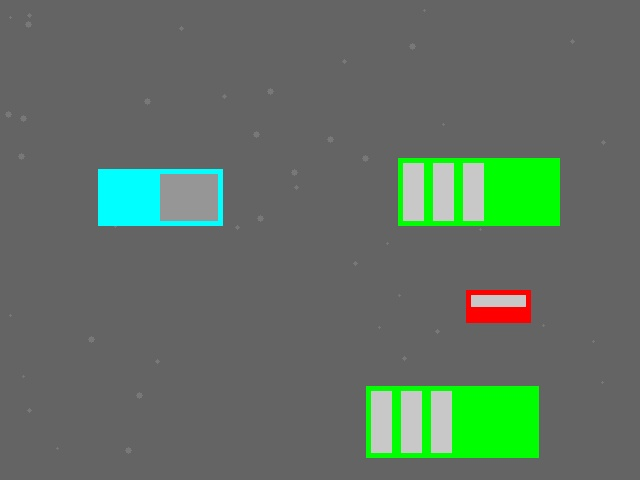bus: (366, 386, 538, 457), (398, 158, 559, 225)
car: (466, 290, 530, 322)
truck: (98, 169, 222, 225)
